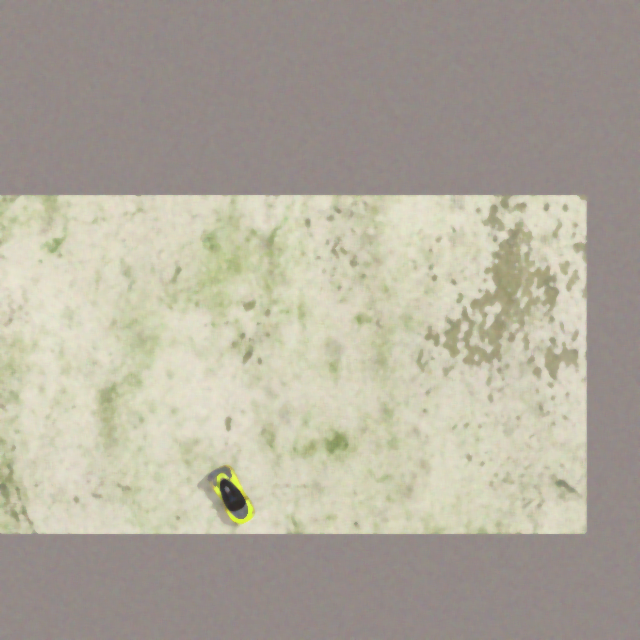car: (203, 460, 260, 532)
